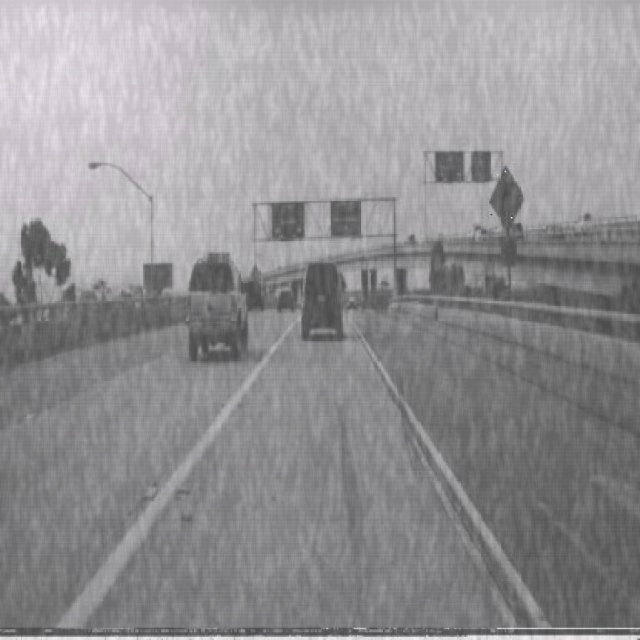curveRight: (489, 166, 524, 237)
